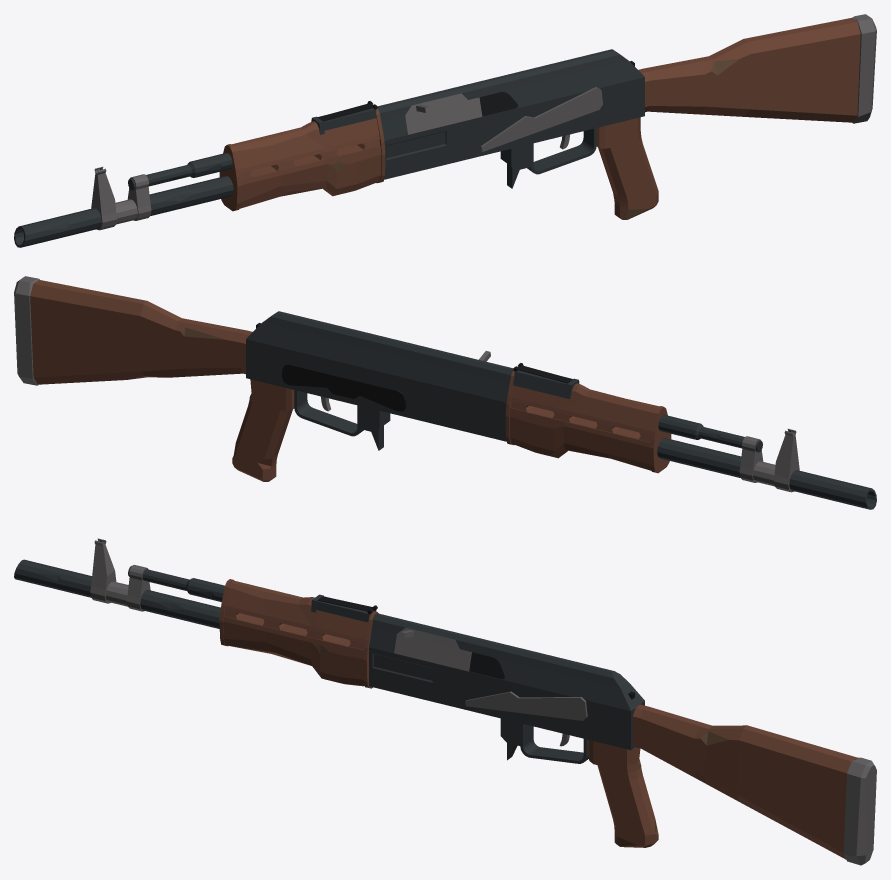
The model's file is Assault_Rifle_5,45_01.gltf.
The picture shows the model from 3 angles, top to bottom: view 1: azimuth 30°, elevation 25°; view 2: azimuth 150°, elevation 25°; view 3: azimuth 330°, elevation 25°; orthographic projection.
Parts seen in each view (by area): view 1: Assault_Rifle_5,45_01, Fuse_01, Gate_01; view 2: Assault_Rifle_5,45_01; view 3: Assault_Rifle_5,45_01, Fuse_01, Gate_01.
Boxes of the visible parts, left/top/right/bottom form: Assault_Rifle_5,45_01: left=14, top=14, right=876, bottom=247; Fuse_01: left=480, top=87, right=602, bottom=151; Gate_01: left=405, top=93, right=482, bottom=134; Assault_Rifle_5,45_01: left=14, top=276, right=876, bottom=509; Assault_Rifle_5,45_01: left=14, top=538, right=876, bottom=865; Fuse_01: left=465, top=691, right=587, bottom=720; Gate_01: left=394, top=627, right=471, bottom=671.
Bounding box in the file's own units: 0.9288 × 0.1838 × 0.0422.
